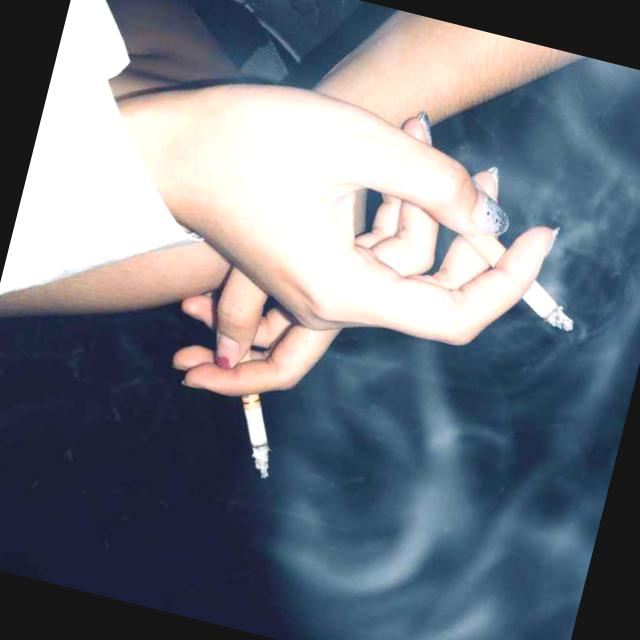smoke: (448, 218, 604, 360), (202, 344, 306, 492)
